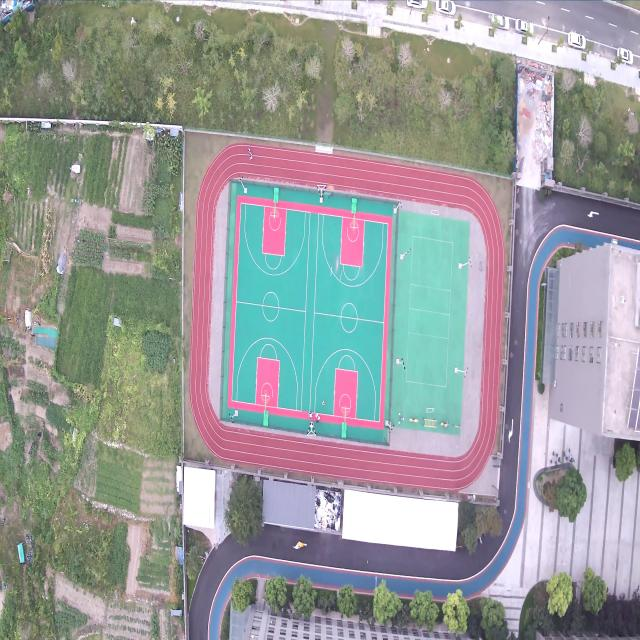UAV: (330, 254, 342, 281)
